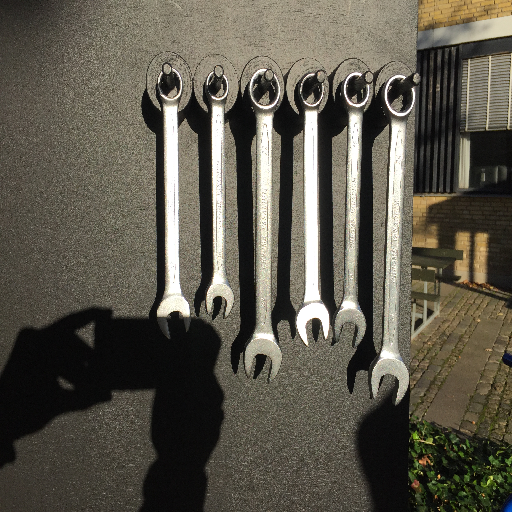bottom: (367, 349, 410, 407), (242, 332, 283, 383), (156, 296, 195, 341), (332, 299, 366, 347), (294, 302, 331, 346), (204, 282, 237, 320)
top: (380, 71, 418, 121), (246, 66, 283, 115), (341, 69, 371, 113), (155, 66, 185, 106), (296, 71, 326, 111), (203, 70, 231, 104)
